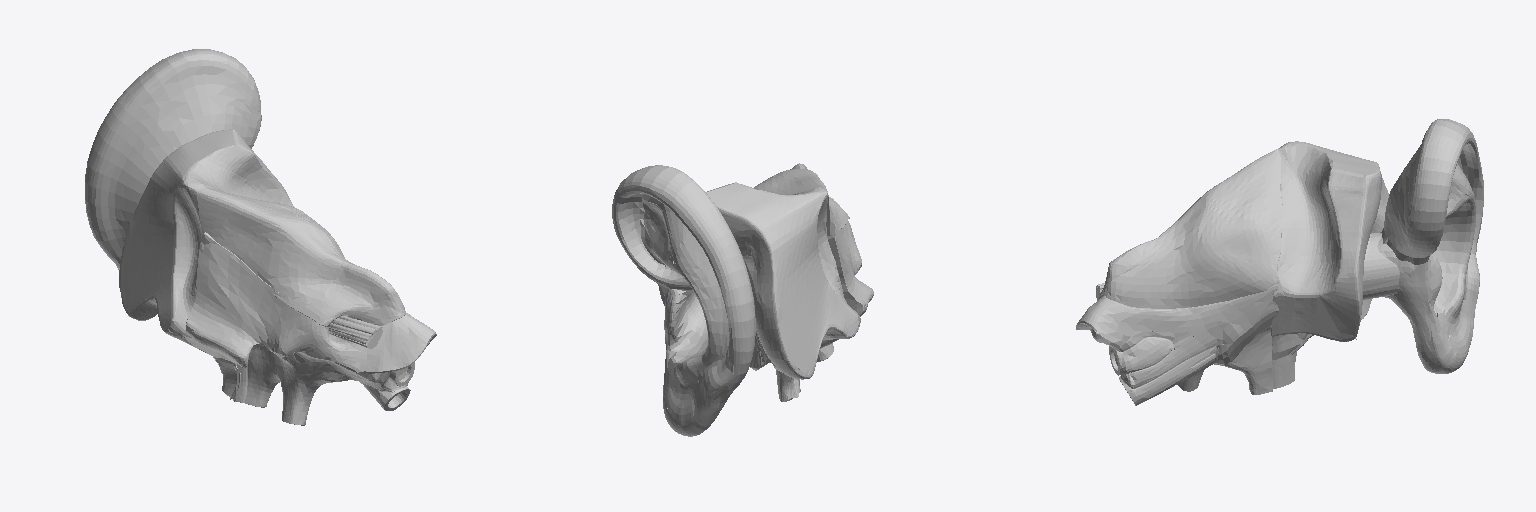
Rendered from ear2.obj.
3 views of the same model, side by side, from view 1: azimuth 30°, elevation 25°; view 2: azimuth 150°, elevation 25°; view 3: azimuth 270°, elevation 25° (orthographic).
Bounding box in the file's own units: 7.22 × 10.92 × 14.37.